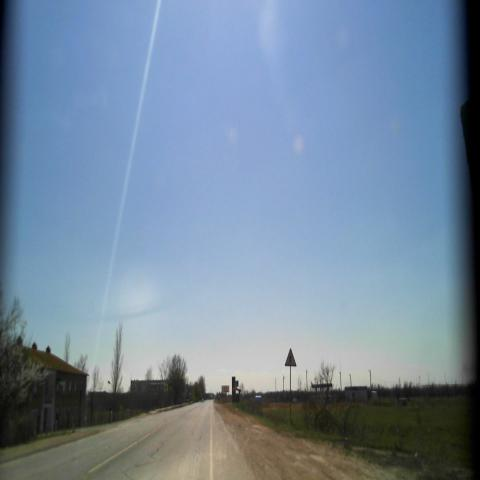1_22: (284, 345, 298, 367)
